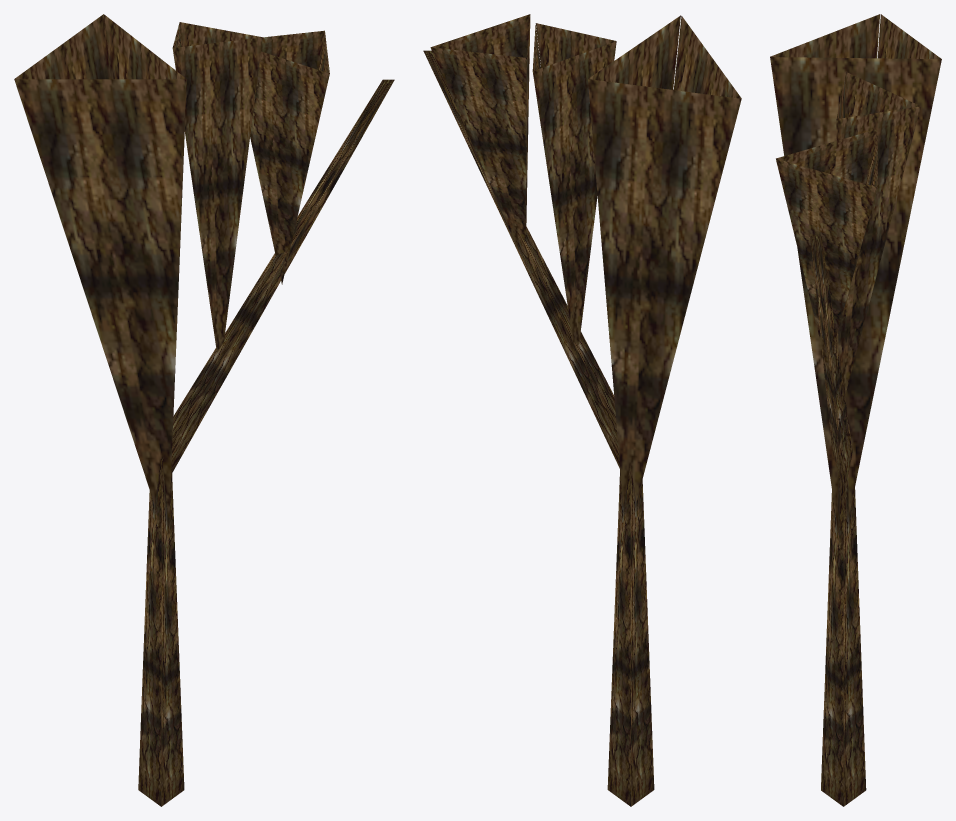
Rendered from death.glb.
The picture shows the model from 3 angles, left to right: view 1: azimuth 30°, elevation 25°; view 2: azimuth 150°, elevation 25°; view 3: azimuth 270°, elevation 25°; orthographic projection. The views are drawn at different scales.
Visible parts, largest first — view 1: MeshRoot; view 2: MeshRoot; view 3: MeshRoot.
Part boxes in pixels (x1=…): MeshRoot: x1=14, y1=14, x2=394, y2=806; MeshRoot: x1=423, y1=14, x2=741, y2=806; MeshRoot: x1=770, y1=14, x2=941, y2=806.
Size of the model in its own units: 3.53 by 7.24 by 1.54.
1 material, 1 textured.
